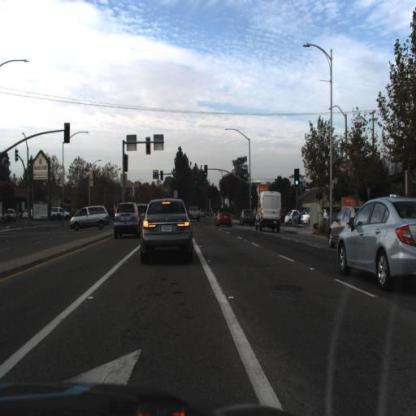car: (339, 197, 416, 289), (142, 199, 191, 253), (330, 204, 379, 254), (69, 205, 111, 230), (114, 201, 141, 239), (113, 202, 139, 238), (215, 204, 239, 232), (216, 207, 234, 230), (189, 199, 201, 221), (189, 206, 203, 222), (138, 204, 148, 225), (241, 210, 256, 224), (117, 210, 124, 219)
trafficLight: (63, 123, 71, 145), (122, 155, 130, 171), (145, 139, 153, 155)
trafficLight-Green: (203, 163, 211, 179), (295, 169, 300, 187), (172, 177, 178, 191), (161, 170, 165, 180)
truck: (256, 192, 287, 235), (256, 191, 283, 235)
